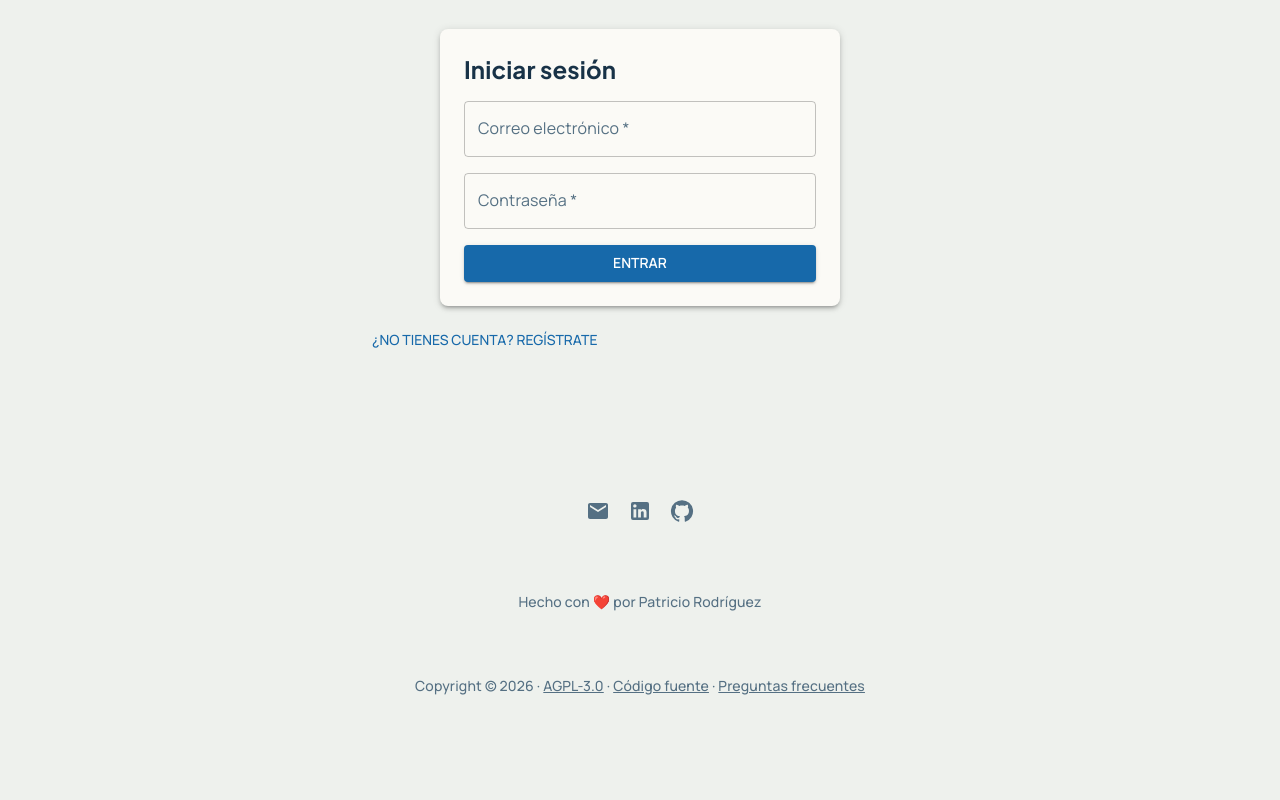
Test: App (integration) › lets signed-out visitors open the FAQ from the footer
(page scrolled)
Click the link "Preguntas frecuentes". click: (792, 686)
box: [718, 676, 865, 695]
(page scrolled)
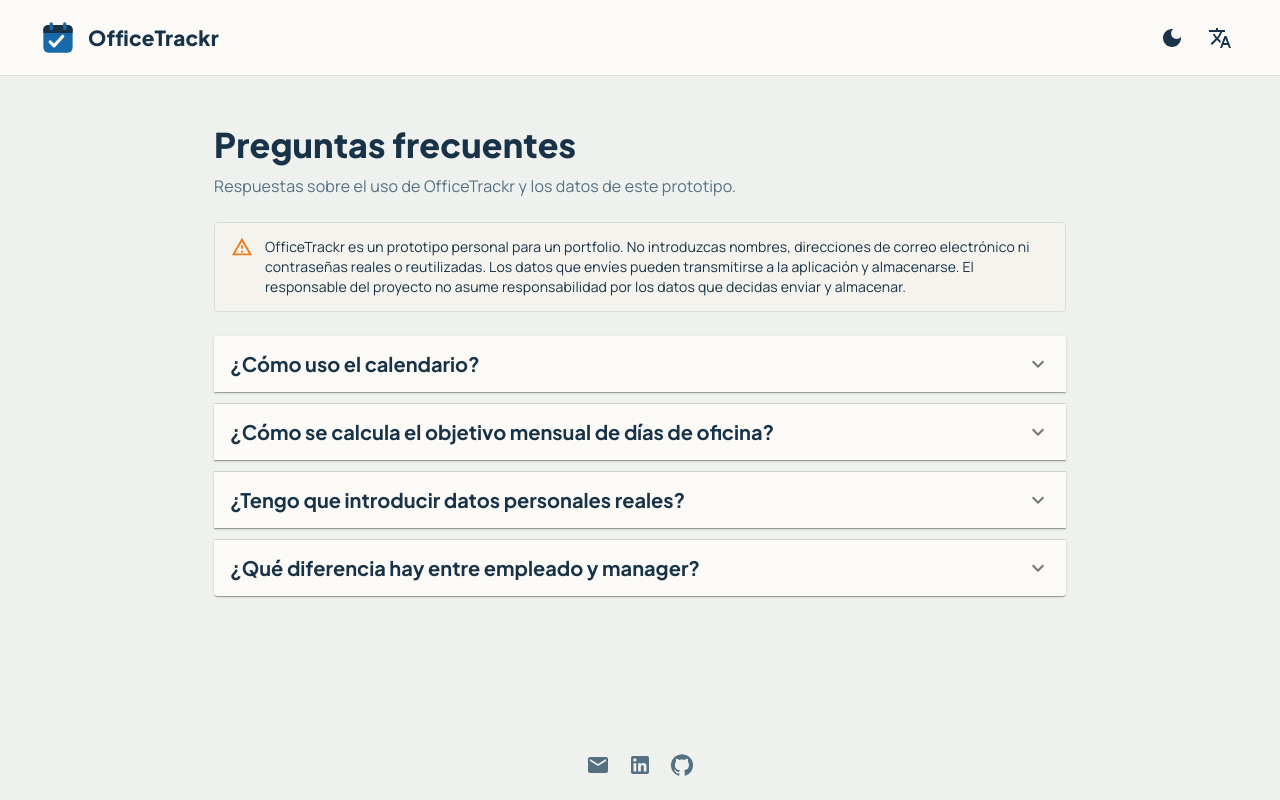
Check: the heading "Preguntas frecuentes" is shown, box [214, 123, 576, 166]
Check: the message shows "No introduzcas nombres", box [265, 237, 1030, 296]
